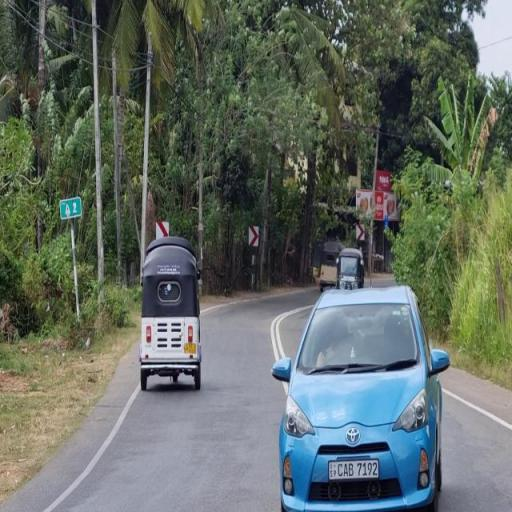double_white_line: (44, 386, 137, 510), (270, 306, 318, 364)
